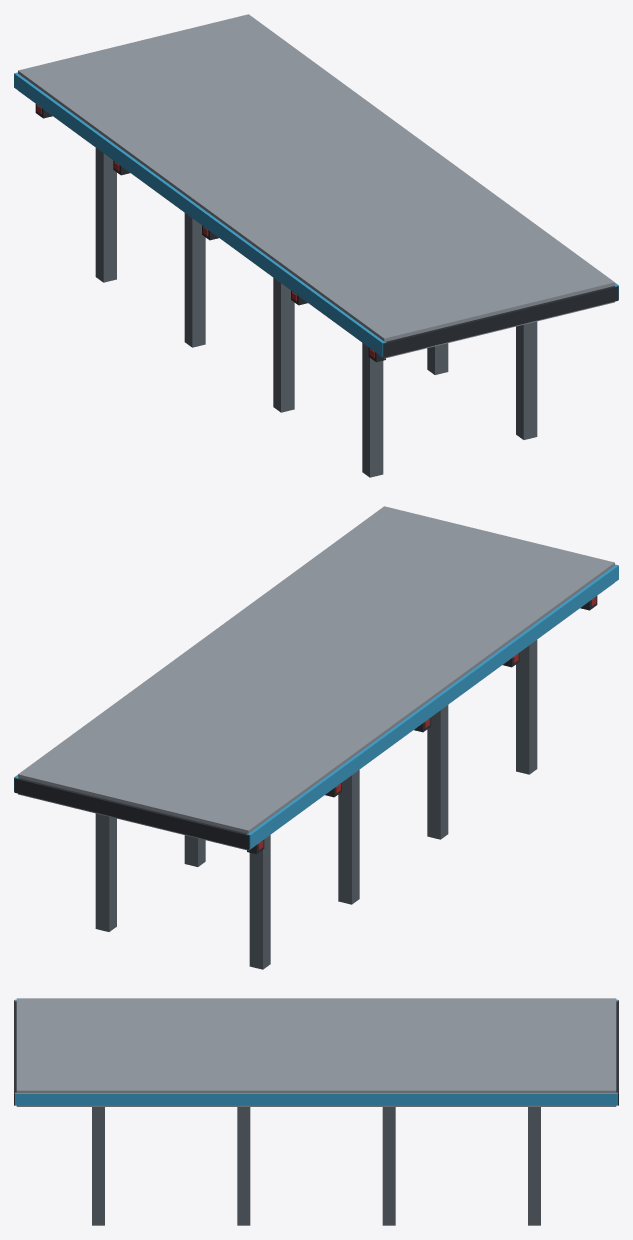
The model's file is env_toll_canopy.fbx.
3 renders of one model, top to bottom at view 1: azimuth 30°, elevation 25°; view 2: azimuth 150°, elevation 25°; view 3: azimuth 270°, elevation 25°, orthographic. The views are drawn at different scales.
Parts seen in each view (by area): view 1: env_toll_canopy; view 2: env_toll_canopy; view 3: env_toll_canopy.
Boxes of the visible parts, bbox=[...] form: env_toll_canopy: bbox=[14, 14, 618, 477]; env_toll_canopy: bbox=[14, 506, 618, 969]; env_toll_canopy: bbox=[14, 998, 618, 1225].
Size of the model in its own units: 2460 by 1795 by 6660.
